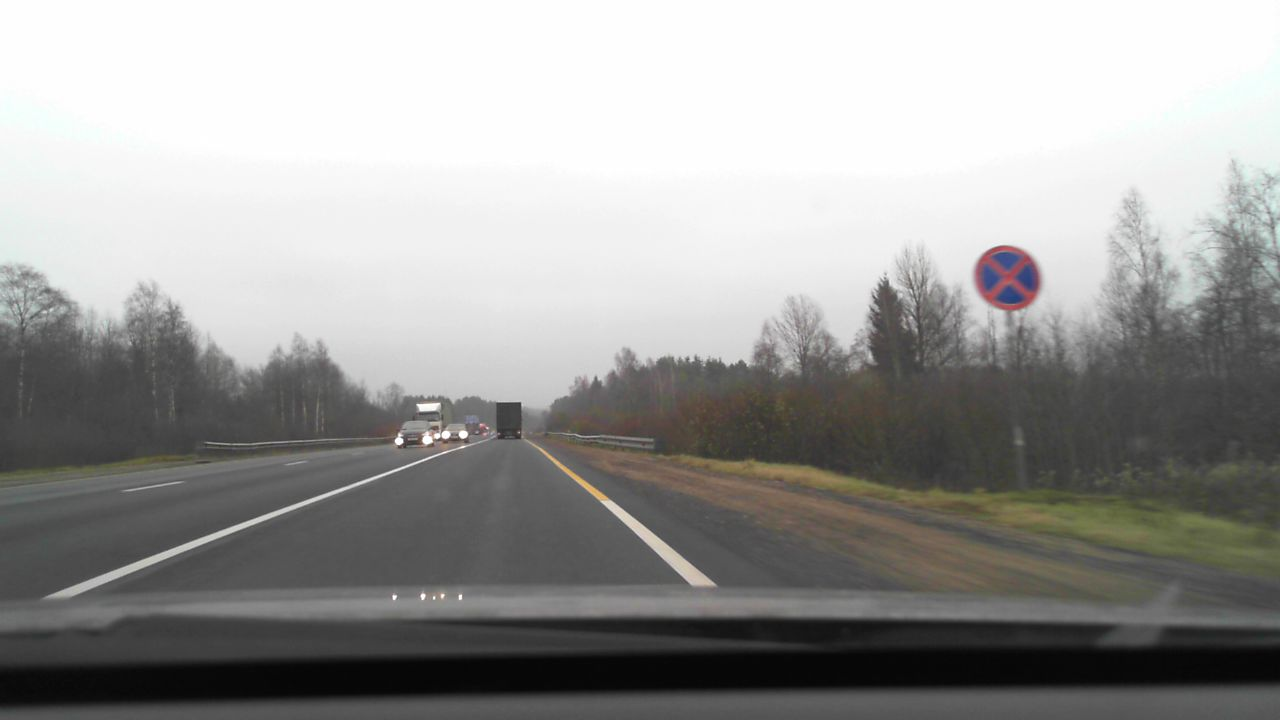No Parking: (973, 244, 1042, 310)
